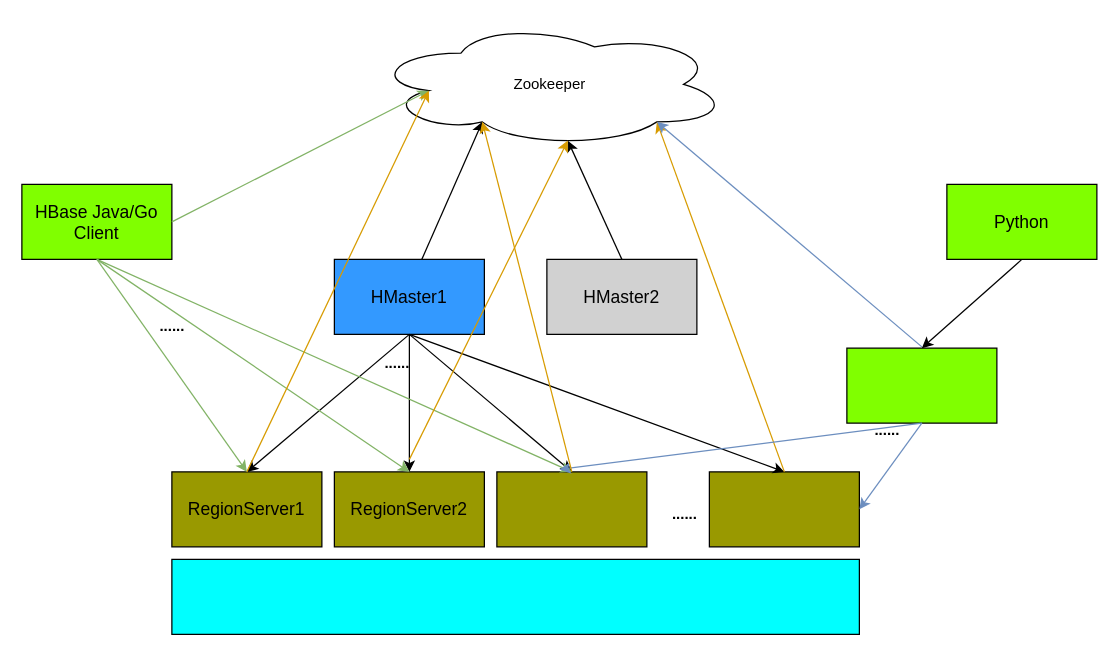
The diagram is 1119 pixels wide and 656 high, and some of its shapes have lost their labels. The shapes that lost their labels are listed below. From the top down, each one's centre as x and y in pixels, then its label:
pixel 921 385: ThriftServer (HBase Client)
pixel 571 509: RegionServer3
pixel 783 509: RegionServerN
pixel 515 596: HDFS
